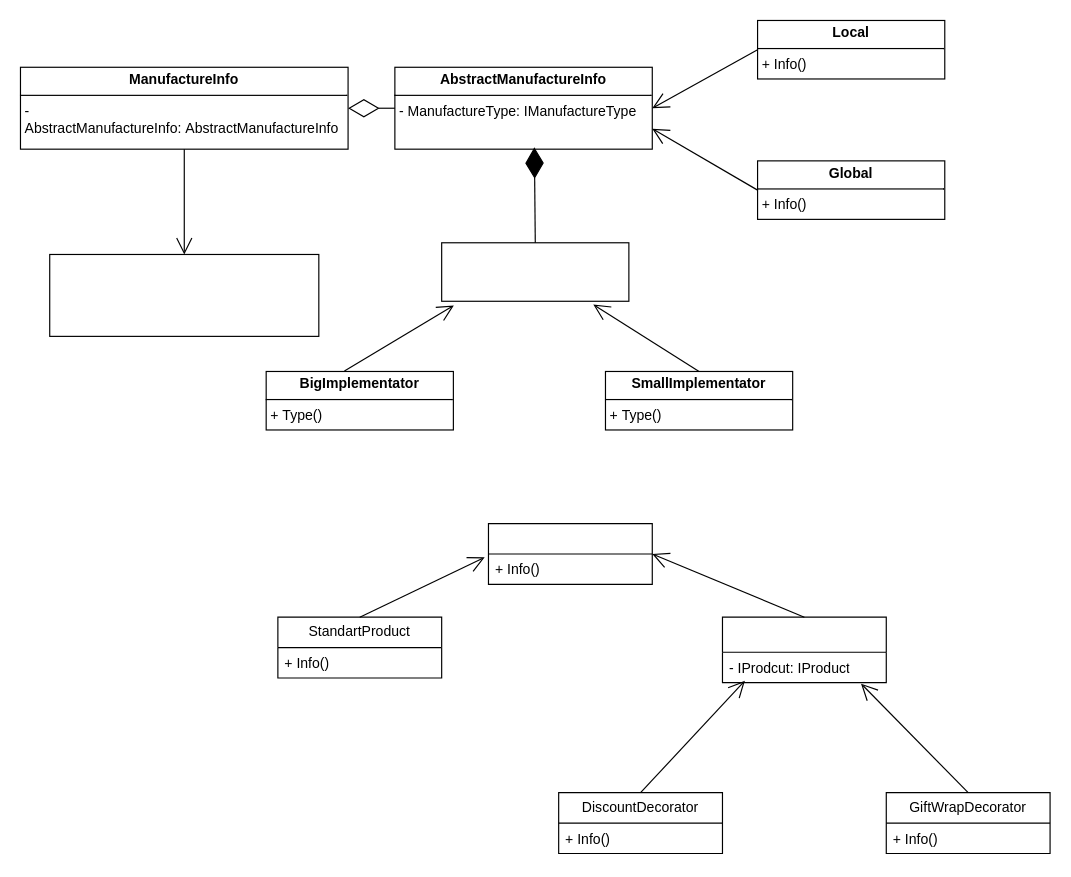
The diagram is 1071 pixels wide and 877 high, and some of its shapes have lost their labels. The box of each missing label's shape, as (x1, y1, x2, y2) in pixels:
I Manufacture Type: (441, 242, 629, 301)
IProduct: (487, 522, 652, 584)
Manufacture - ManufactureInfo: AbstractProductInfo: (49, 253, 319, 336)
ProductDecorator: (721, 616, 886, 683)
